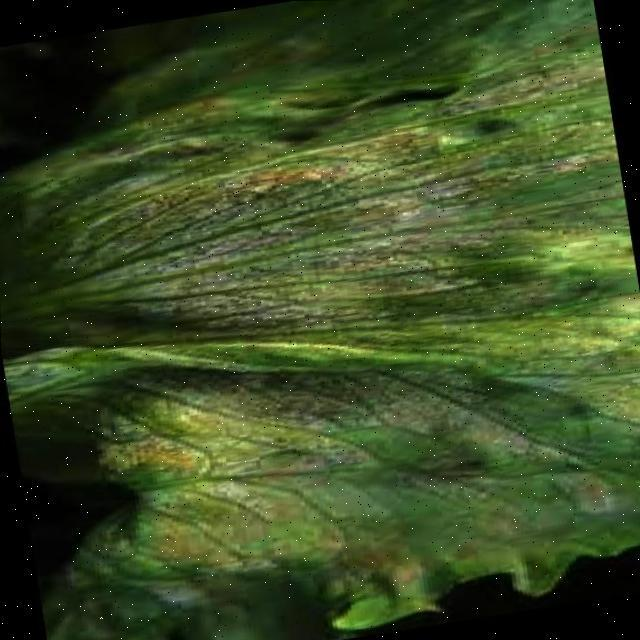Downy_Mildew: (95, 61, 640, 554)
